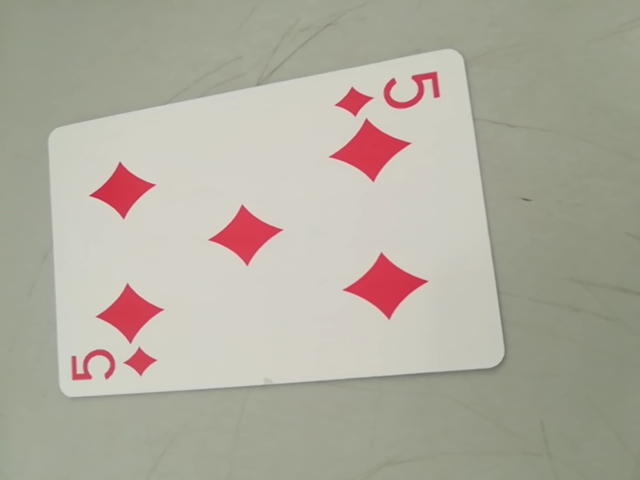fk 5: (336, 66, 448, 119), (65, 339, 157, 395)
